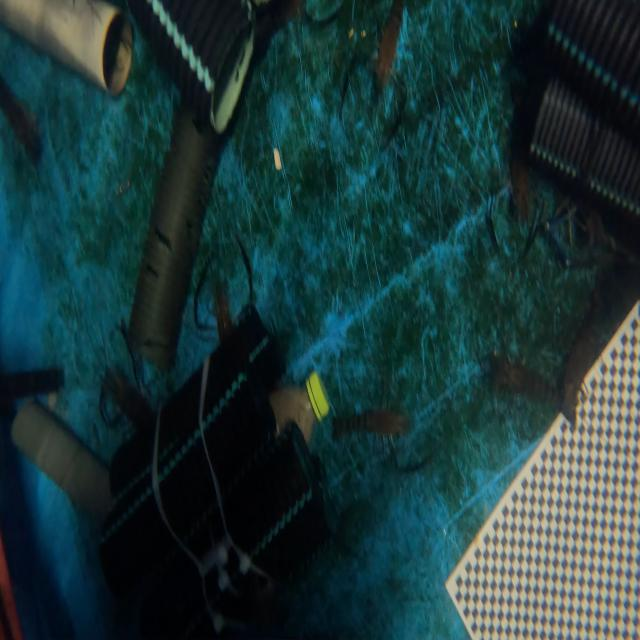prawn: (489, 353, 556, 403), (561, 337, 597, 424), (334, 410, 407, 435)
